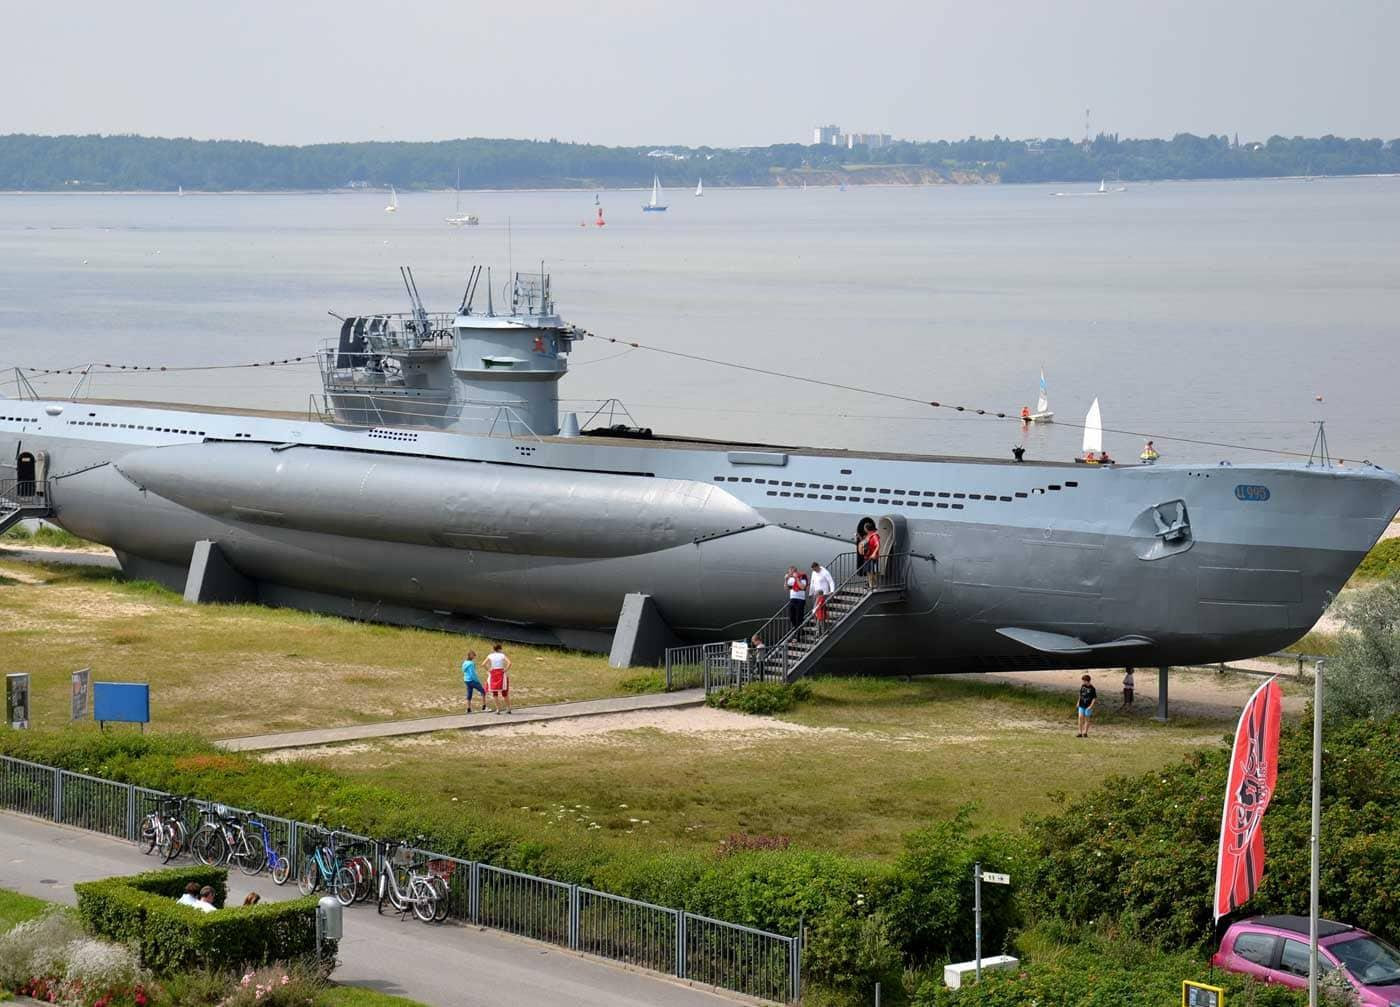Submarine: (0, 177, 1395, 737)
